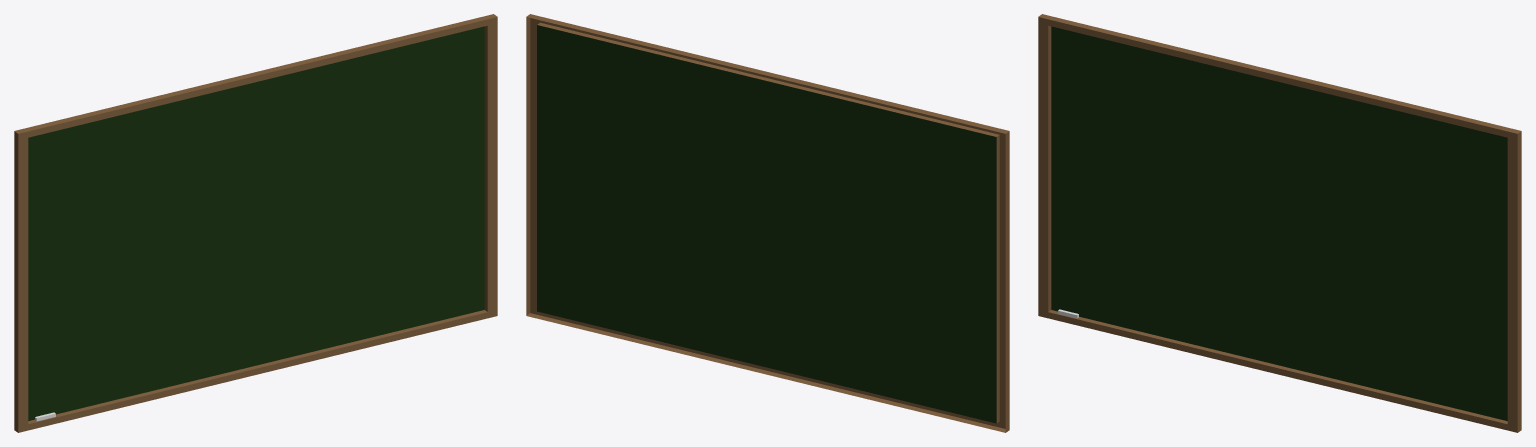
The model's file is Chalkboard.fbx.
3 views of the same model, side by side, from view 1: azimuth 30°, elevation 25°; view 2: azimuth 150°, elevation 25°; view 3: azimuth 330°, elevation 25° (orthographic).
Visible parts, largest first — view 1: Chalkboard; view 2: Chalkboard; view 3: Chalkboard.
Part boxes in pixels (x1,y1,x2,y2): Chalkboard: (14, 14, 497, 432); Chalkboard: (526, 14, 1009, 432); Chalkboard: (1038, 14, 1521, 432).
Size of the model in its own units: 23316 by 13893 by 337.
